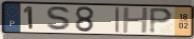1: (22, 6, 34, 31)
8: (74, 6, 95, 33)
H: (122, 7, 151, 35)
I: (114, 6, 121, 34)
P: (148, 7, 175, 36)
S: (45, 5, 74, 33)
